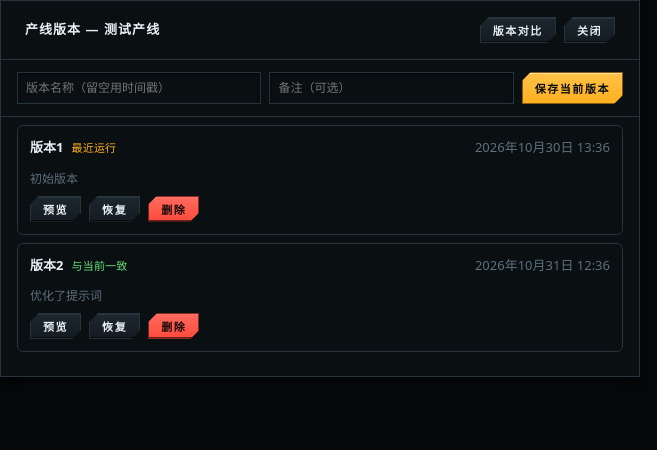
Test: VersionPanel › 版本对比 › 退出对比恢复普通操作按钮
Click the button "版本对比" at (518, 30), box [480,17,556,43]
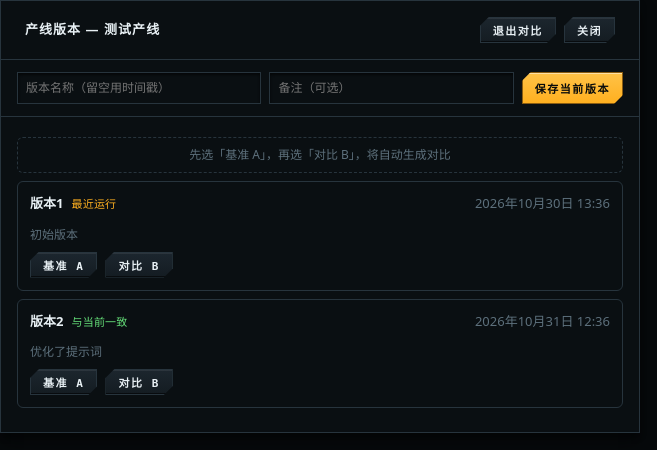
Click the button "退出对比" at (518, 30), box [480,17,556,43]
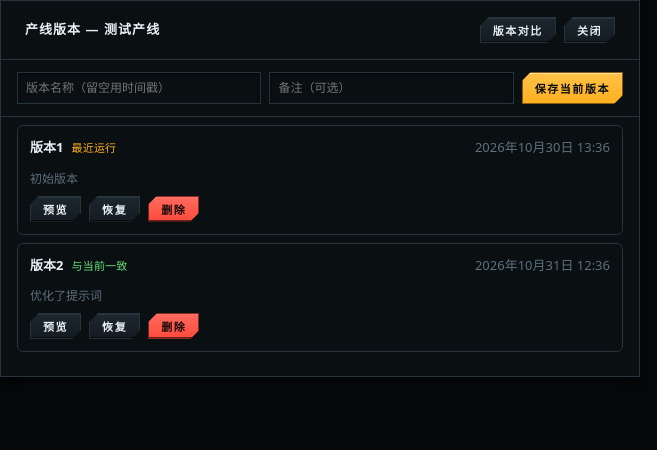
Expected: the number of buttons "预览" is 2, [30,196,81,222]; [30,313,81,339]
